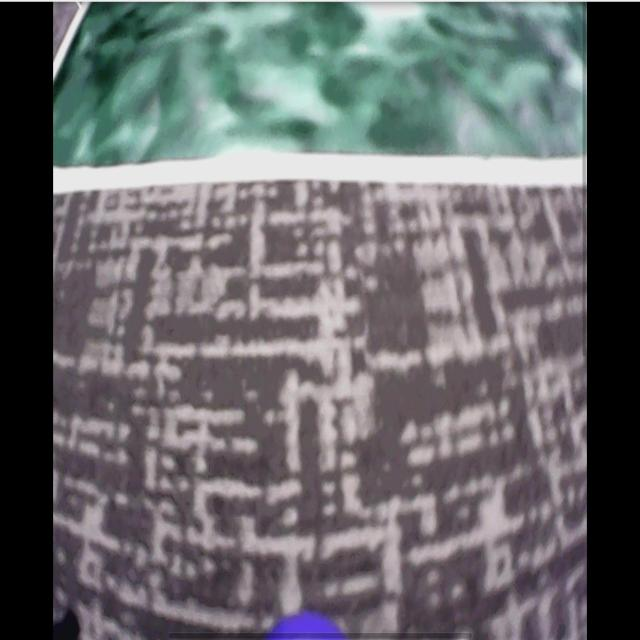ball: (269, 614, 346, 640)
